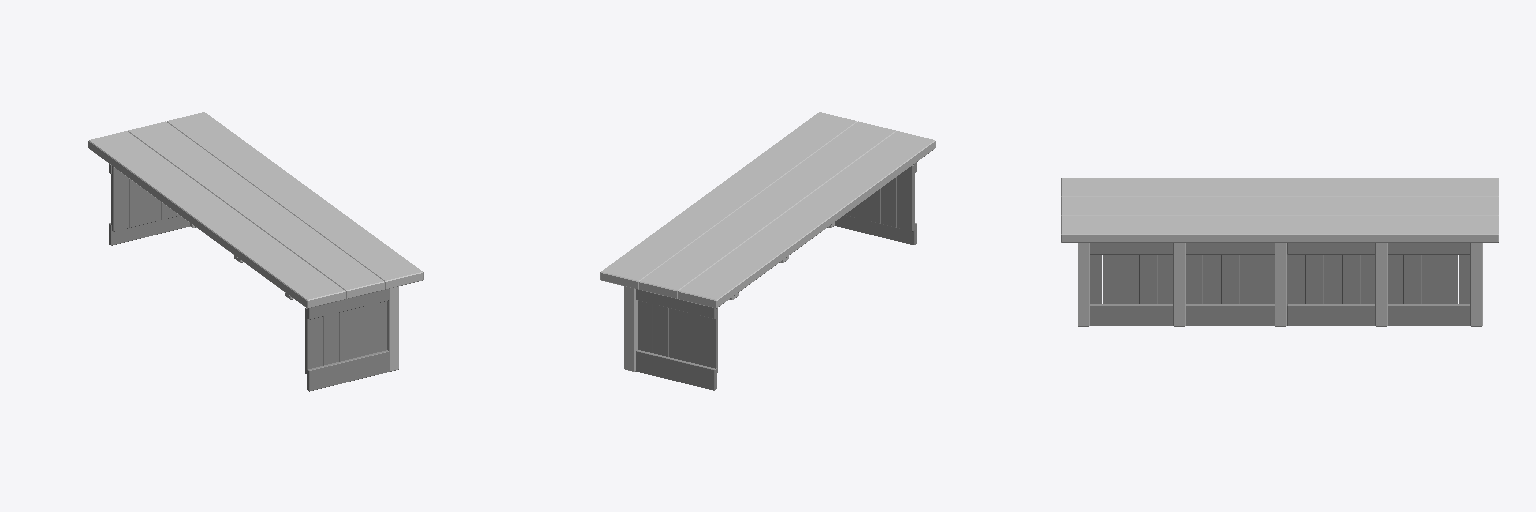
Rendered from balcony.obj.
3 views of the same model, side by side, from view 1: azimuth 30°, elevation 25°; view 2: azimuth 150°, elevation 25°; view 3: azimuth 270°, elevation 25° (orthographic).
Visible parts, largest first — view 1: Cube.013_Cube.019, Cube.012_Cube.018, Cube.011_Cube.017, Cube.002_Cube.008, Cube.010_Cube.016, Cube.001_Cube.007; view 2: Cube.013_Cube.019, Cube.012_Cube.018, Cube.011_Cube.017, Cube.010_Cube.016, Cube.002_Cube.008, Cube.009_Cube.015; view 3: Cube.011_Cube.017, Cube.013_Cube.019, Cube.012_Cube.018, Cube.003_Cube.009, Cube.004_Cube.010, Cube, Cube.005_Cube.011, Cube.009_Cube.015, Cube.008_Cube.014, Cube.006_Cube.012, Cube.007_Cube.013, Cube.001_Cube.007.
Part boxes in pixels (left/top/right/bottom): Cube.013_Cube.019: left=88, top=131, right=345, bottom=308; Cube.012_Cube.018: left=128, top=121, right=384, bottom=298; Cube.011_Cube.017: left=167, top=112, right=423, bottom=289; Cube.002_Cube.008: left=305, top=289, right=388, bottom=391; Cube.010_Cube.016: left=109, top=164, right=189, bottom=245; Cube.001_Cube.007: left=387, top=286, right=398, bottom=371; Cube.013_Cube.019: left=678, top=131, right=935, bottom=308; Cube.012_Cube.018: left=639, top=121, right=895, bottom=298; Cube.011_Cube.017: left=600, top=112, right=856, bottom=289; Cube.010_Cube.016: left=635, top=289, right=717, bottom=390; Cube.002_Cube.008: left=835, top=162, right=916, bottom=244; Cube.009_Cube.015: left=624, top=286, right=637, bottom=371; Cube.011_Cube.017: left=1061, top=216, right=1498, bottom=242; Cube.013_Cube.019: left=1061, top=178, right=1498, bottom=196; Cube.012_Cube.018: left=1061, top=197, right=1498, bottom=215; Cube.003_Cube.009: left=1186, top=243, right=1274, bottom=325; Cube.004_Cube.010: left=1287, top=243, right=1374, bottom=325; Cube: left=1090, top=243, right=1172, bottom=325; Cube.005_Cube.011: left=1388, top=243, right=1469, bottom=325; Cube.009_Cube.015: left=1470, top=243, right=1482, bottom=326; Cube.008_Cube.014: left=1375, top=243, right=1387, bottom=326; Cube.006_Cube.012: left=1173, top=243, right=1185, bottom=326; Cube.007_Cube.013: left=1275, top=243, right=1286, bottom=326; Cube.001_Cube.007: left=1078, top=243, right=1089, bottom=326.
Bounding box in the file's own units: 4.67 × 3.83 × 15.18.